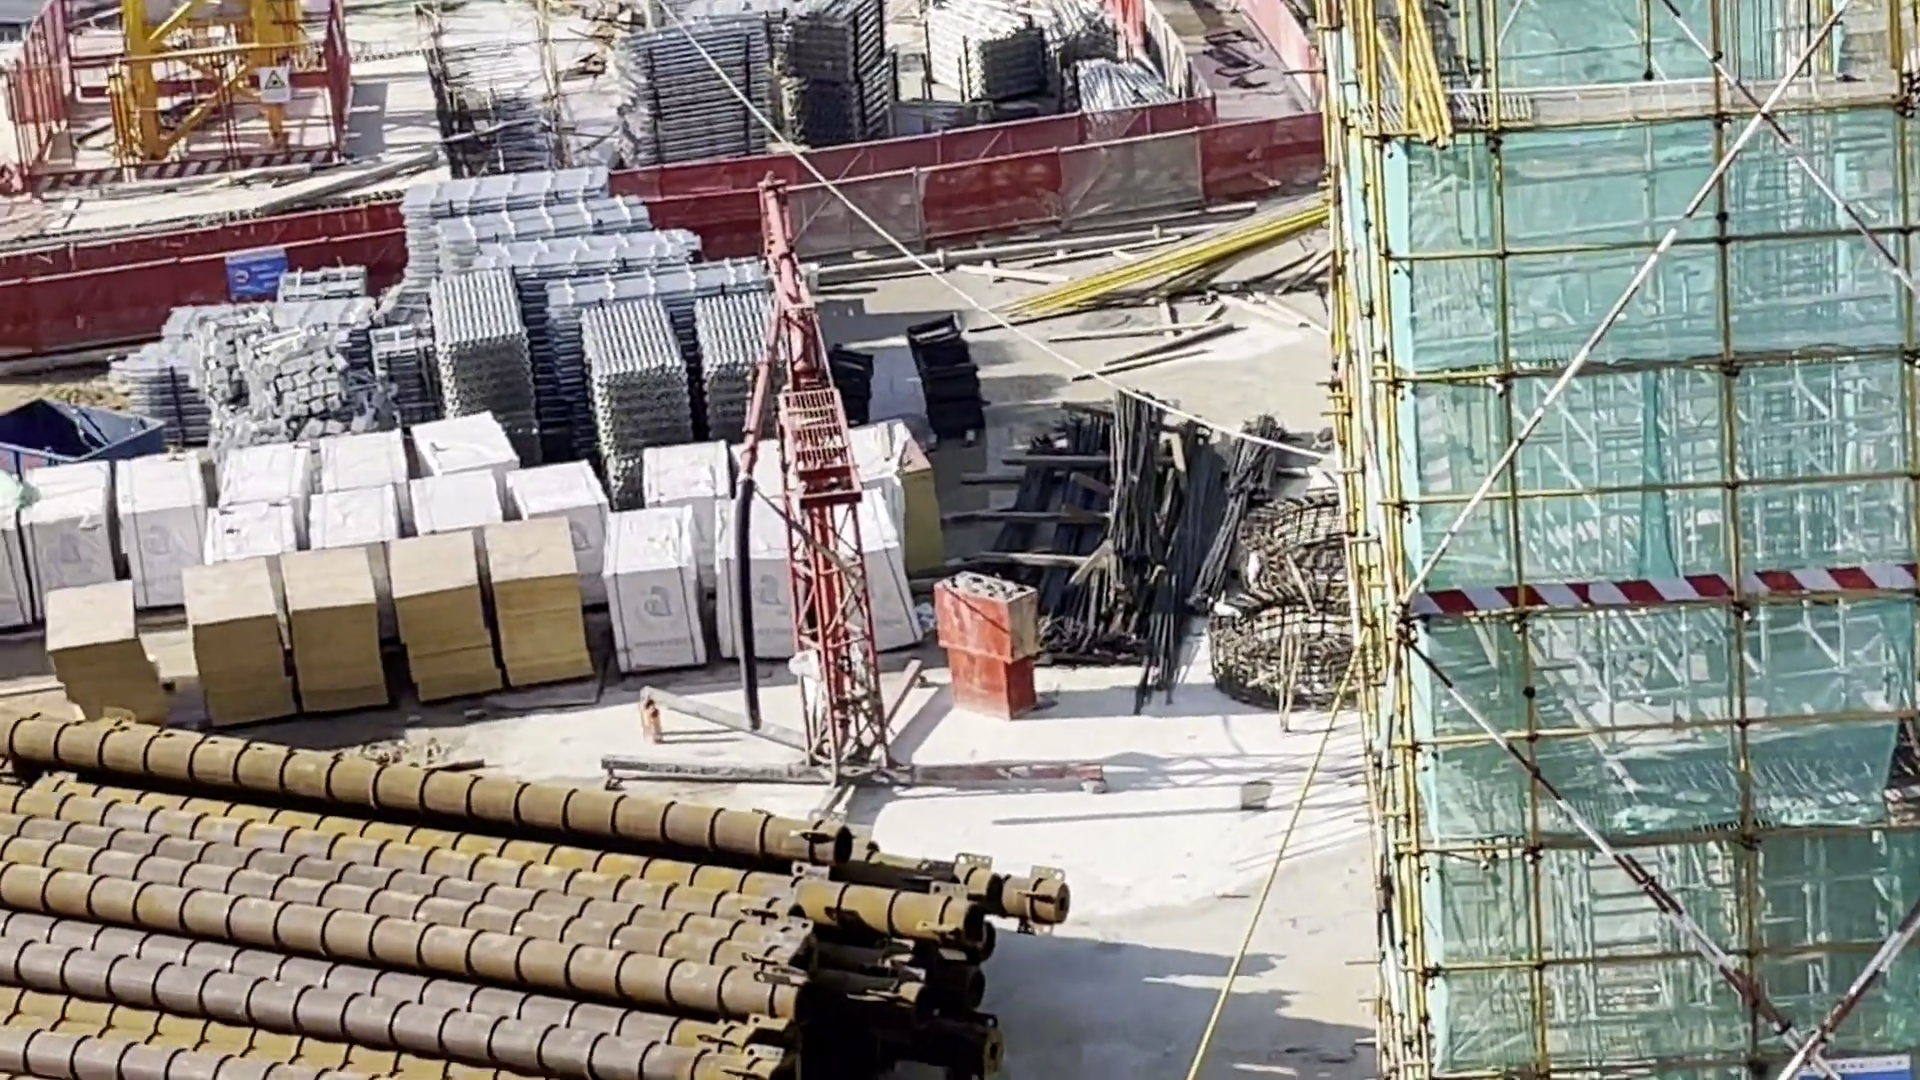board: (477, 506, 607, 694), (377, 520, 506, 705), (171, 553, 299, 731), (281, 537, 396, 720), (33, 579, 174, 727)
hopper: (3, 382, 193, 488)
scaffold: (611, 11, 775, 175), (570, 297, 702, 495), (692, 276, 822, 454), (417, 266, 539, 446), (918, 1, 1058, 112), (458, 229, 705, 282), (783, 61, 907, 157), (388, 162, 613, 214), (429, 193, 669, 235), (775, 3, 889, 80)
slogan: (1788, 1033, 1913, 1080)
